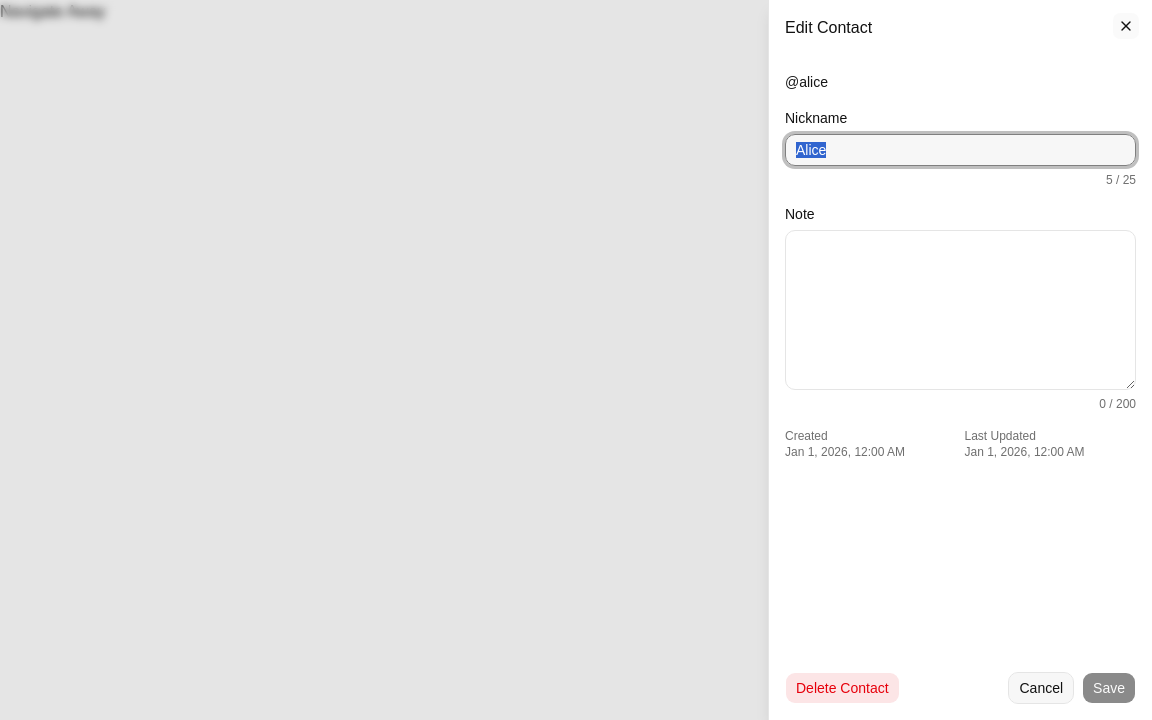
Test case: ContactEditDrawer: editing and validation › saves only nickname/note, resets dirty state, and toasts success
Replace the text in the field labelled "Nickname" with "Ally": (960, 150) [785,134,1136,166]
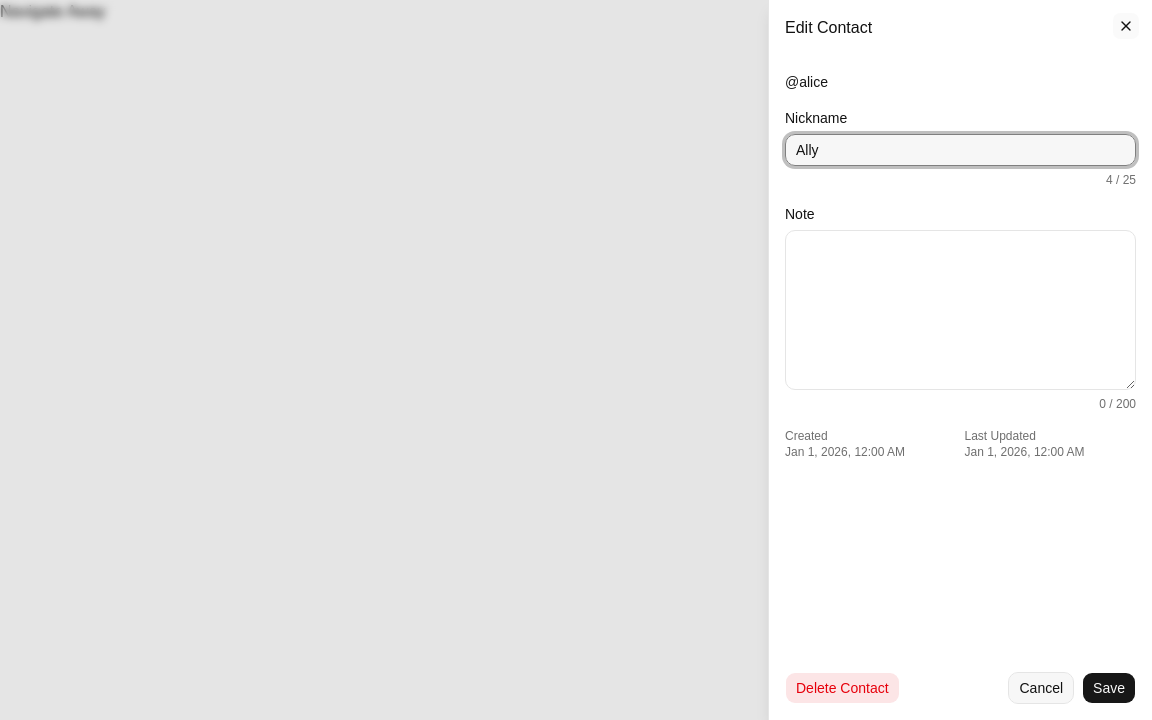
In the text box labelled "Note": (960, 310) [785,230,1136,390], type "A note"
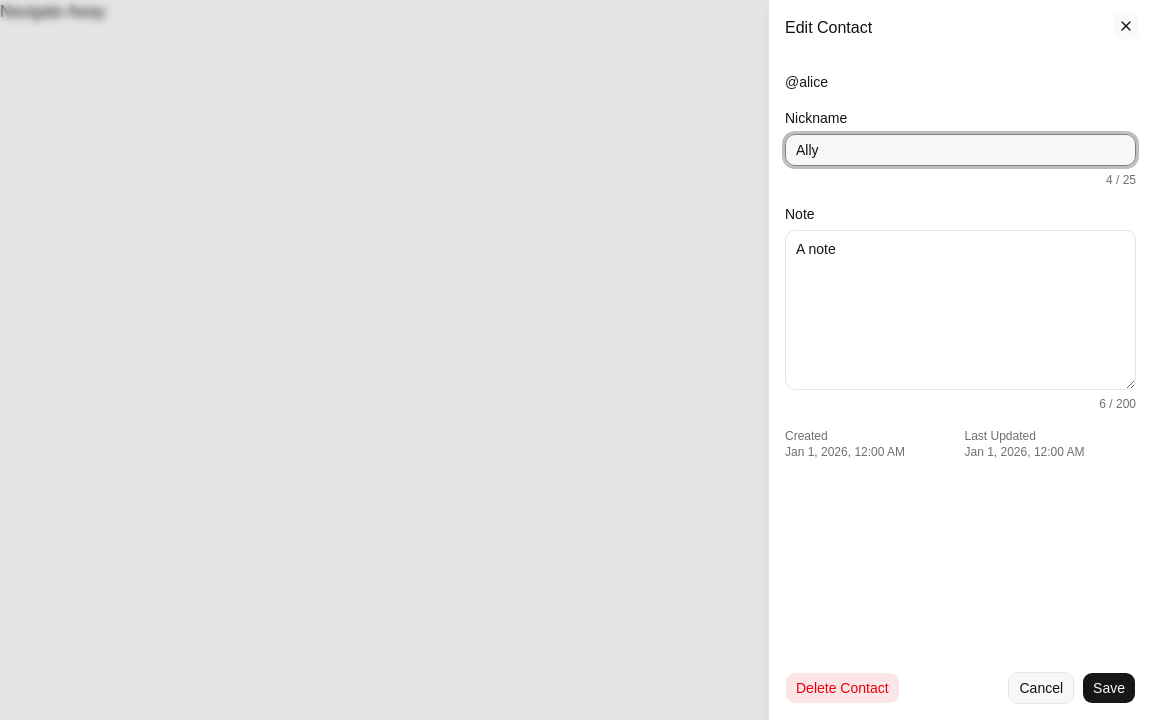
Click the button "Save": (1109, 688) [1082,672,1136,704]
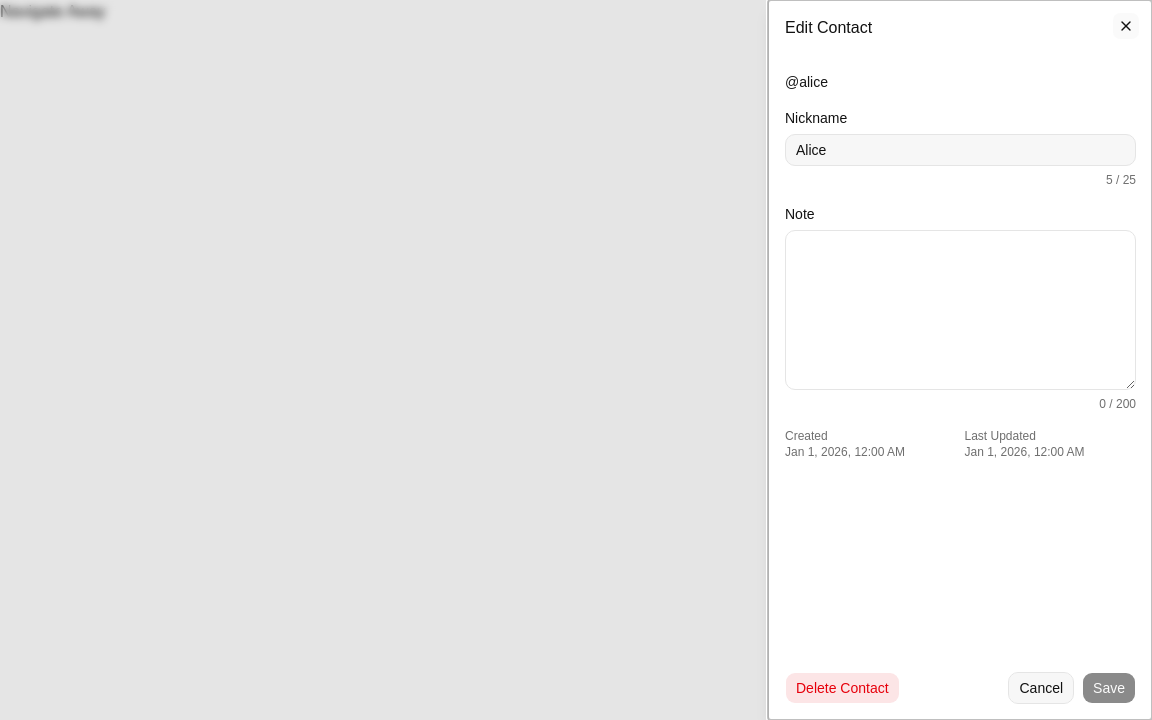
Check: the button "Save" is disabled, box [1082,672,1136,704]
